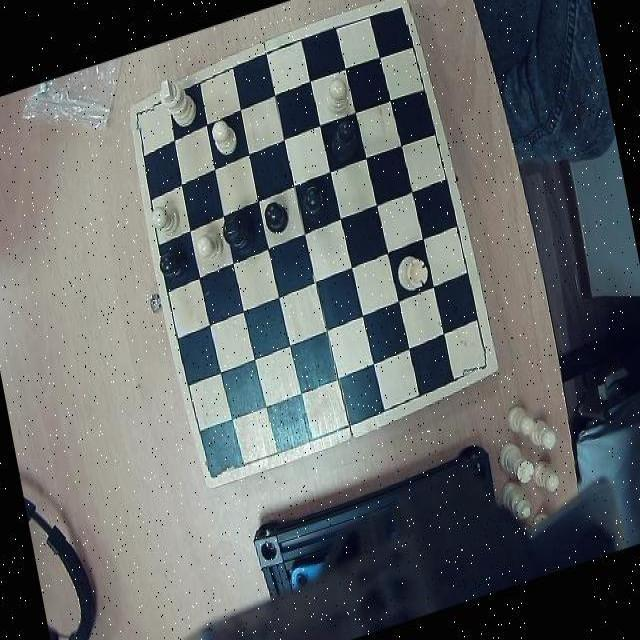chess-table-corners: (460, 342, 497, 382), (200, 448, 236, 487), (383, 0, 414, 31), (128, 99, 157, 132)
